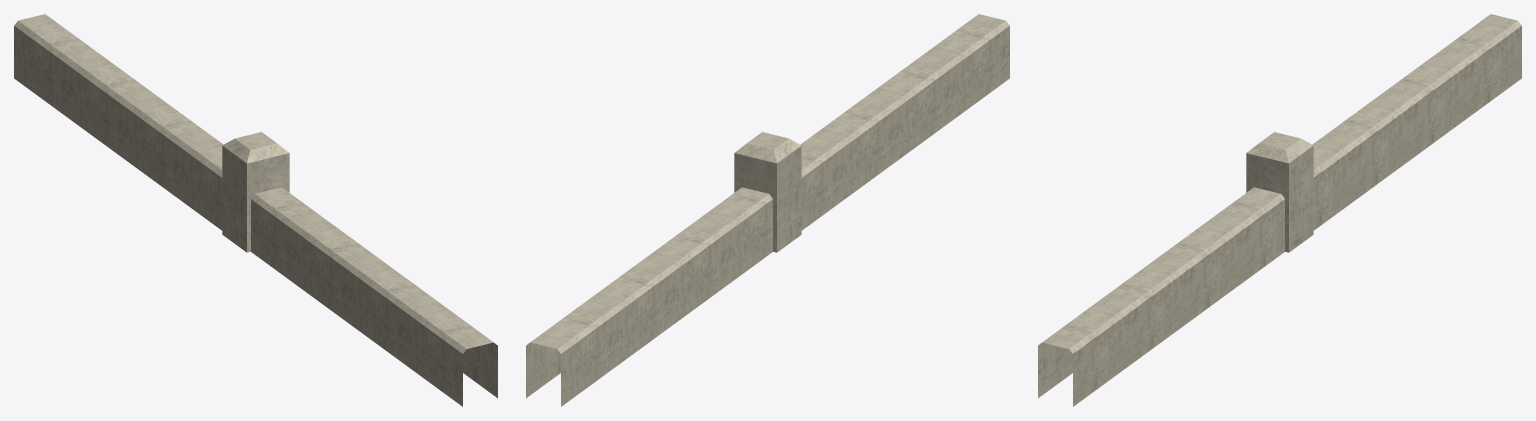
File: GSDRailing5.fbx
3 renders of one model, left to right at view 1: azimuth 30°, elevation 25°; view 2: azimuth 150°, elevation 25°; view 3: azimuth 330°, elevation 25°, orthographic.
Parts seen in each view (by area): view 1: CementFence; view 2: CementFence; view 3: CementFence.
Boxes of the visible parts, x1,y1,x2,y2 form: CementFence: (14, 14, 497, 406); CementFence: (526, 14, 1009, 406); CementFence: (1038, 14, 1521, 406).
Bounding box in the file's own units: 0.55 × 1.2 × 10.
